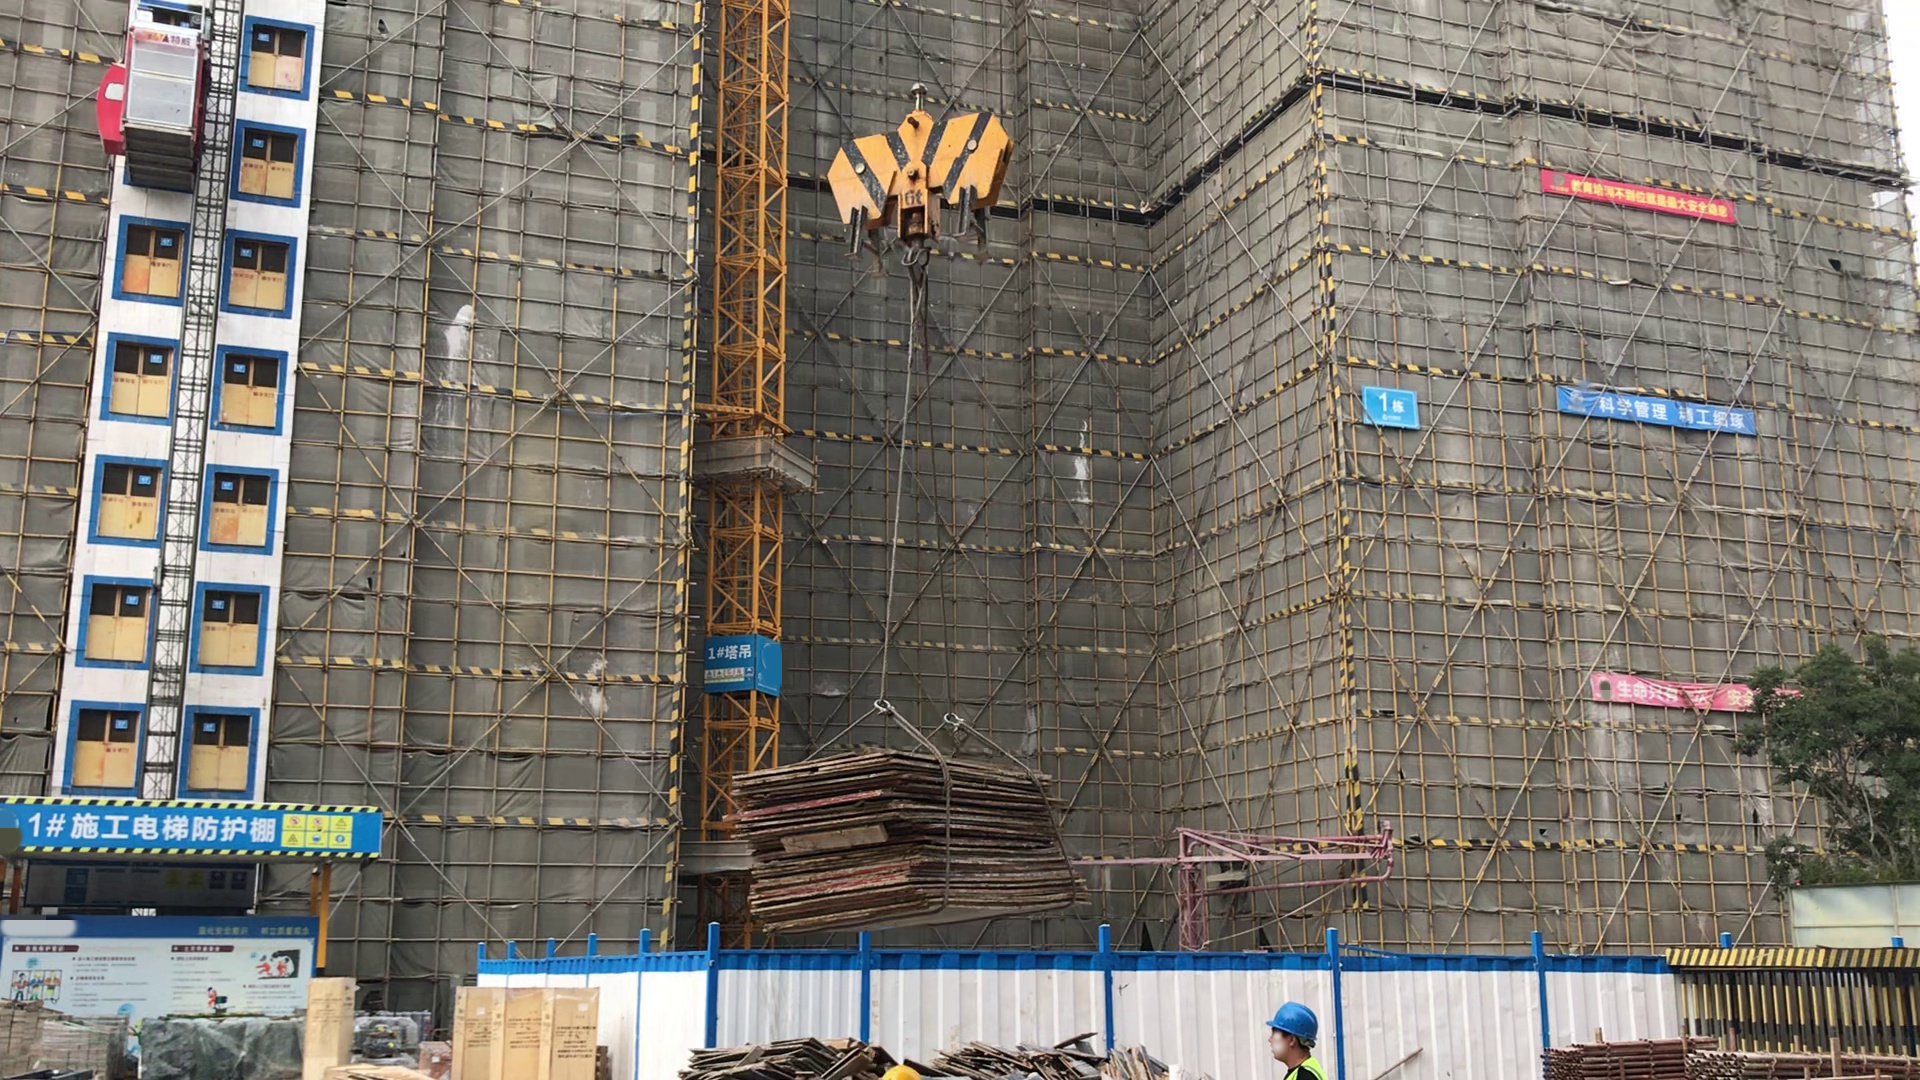board: (721, 745, 1095, 945)
helmet: (1269, 1002, 1321, 1043), (872, 1062, 922, 1080)
hook: (826, 113, 1014, 289)
person: (1252, 1000, 1328, 1080)
scaffold: (1550, 1029, 1920, 1078)
slogan: (1566, 382, 1751, 440), (1547, 169, 1732, 222), (1590, 668, 1772, 711), (278, 813, 358, 847), (702, 666, 751, 685)
